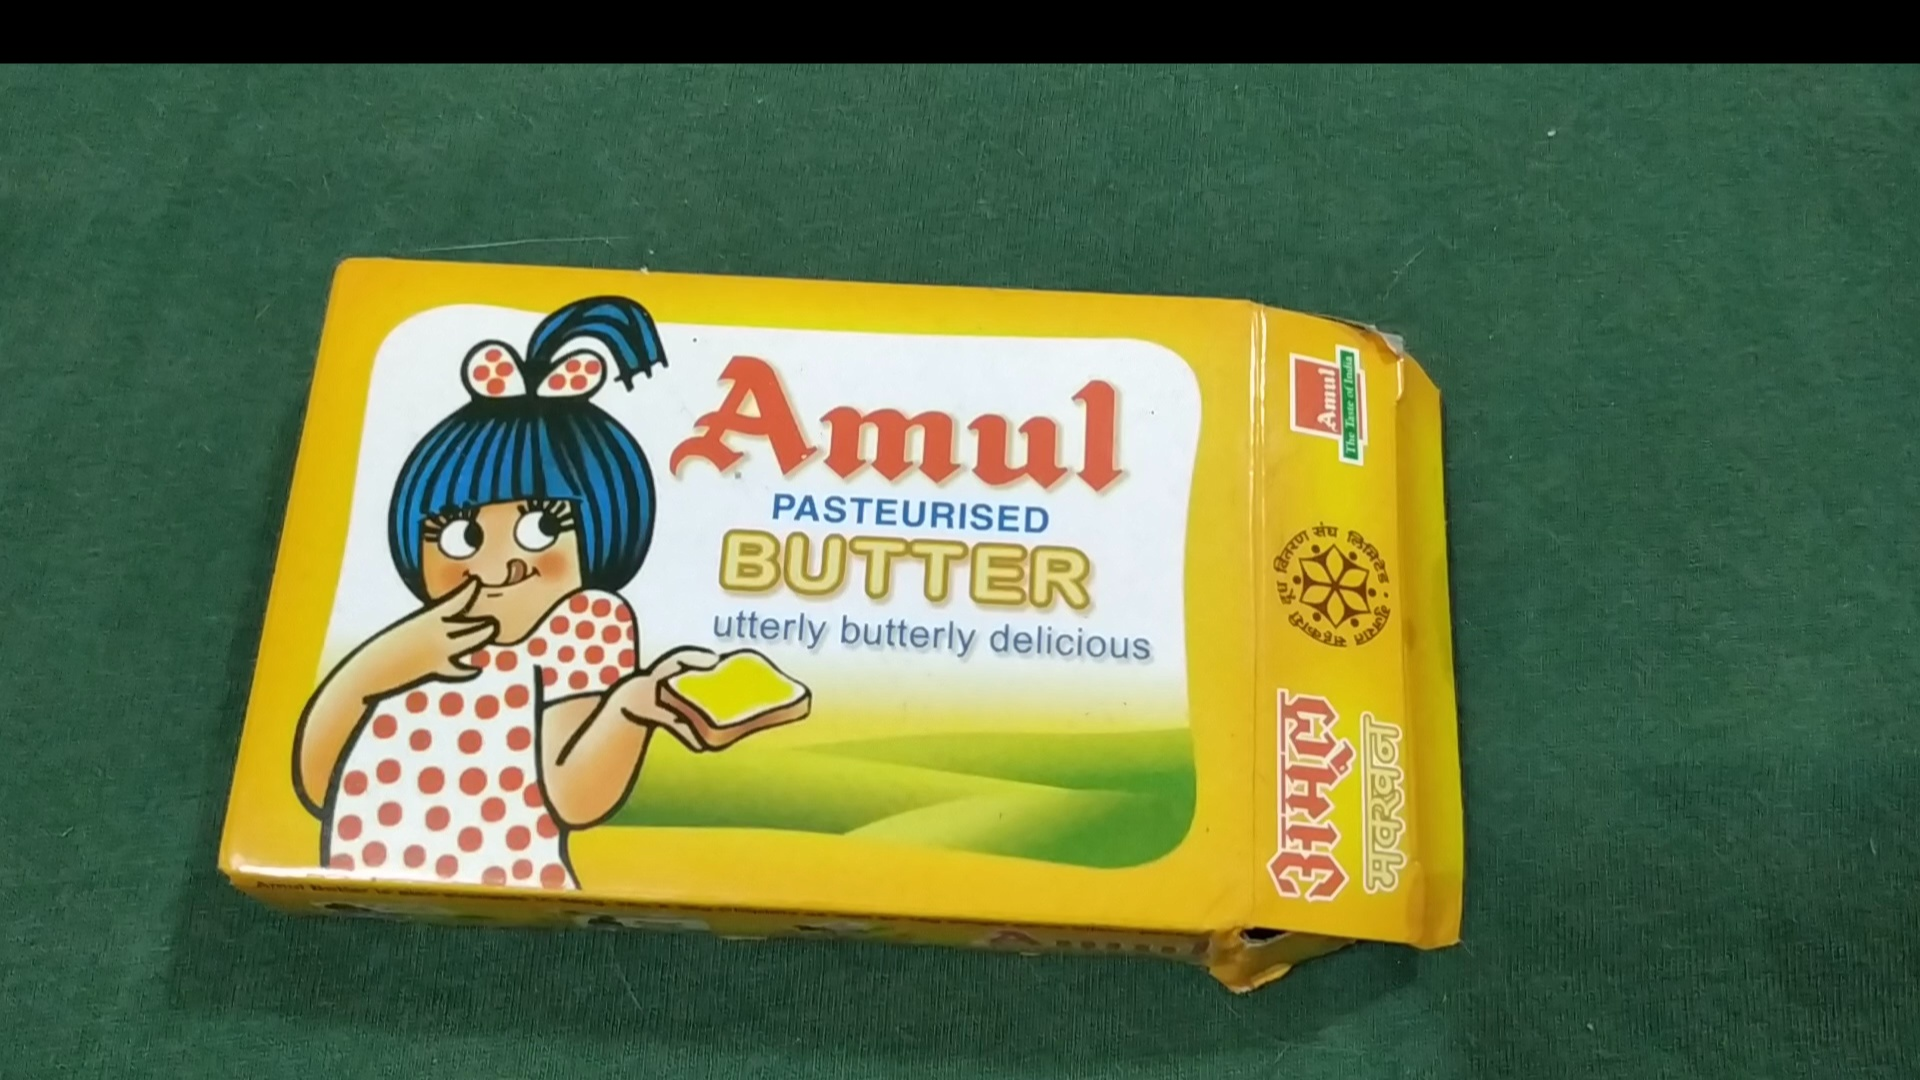amul_butter: (210, 257, 1457, 981)
